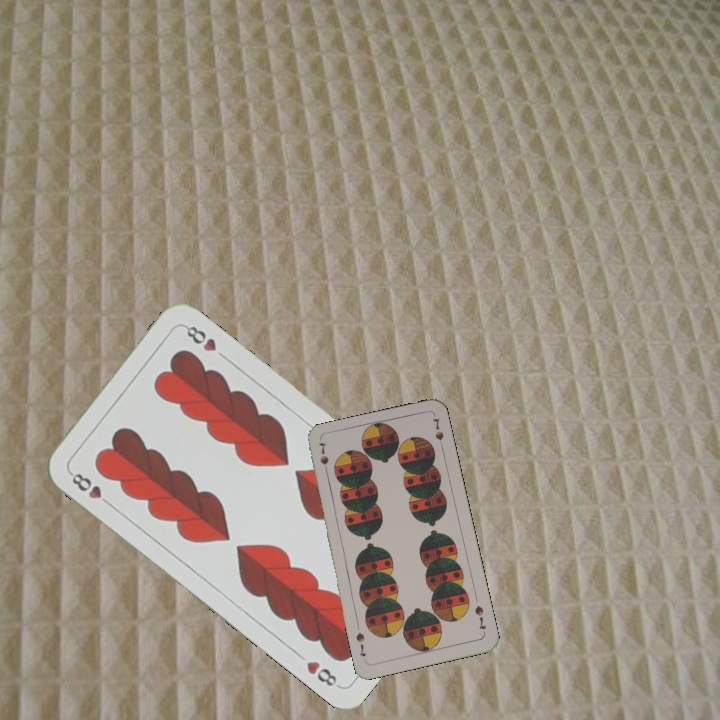H8: (65, 467, 115, 509)
S7: (315, 438, 331, 479), (471, 601, 489, 632)
